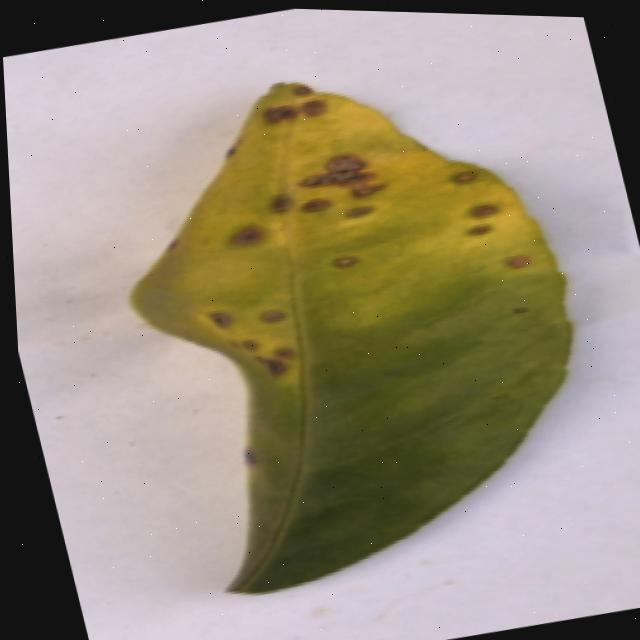canker: (135, 83, 573, 591), (175, 26, 414, 318), (424, 124, 571, 315), (192, 263, 311, 397)
